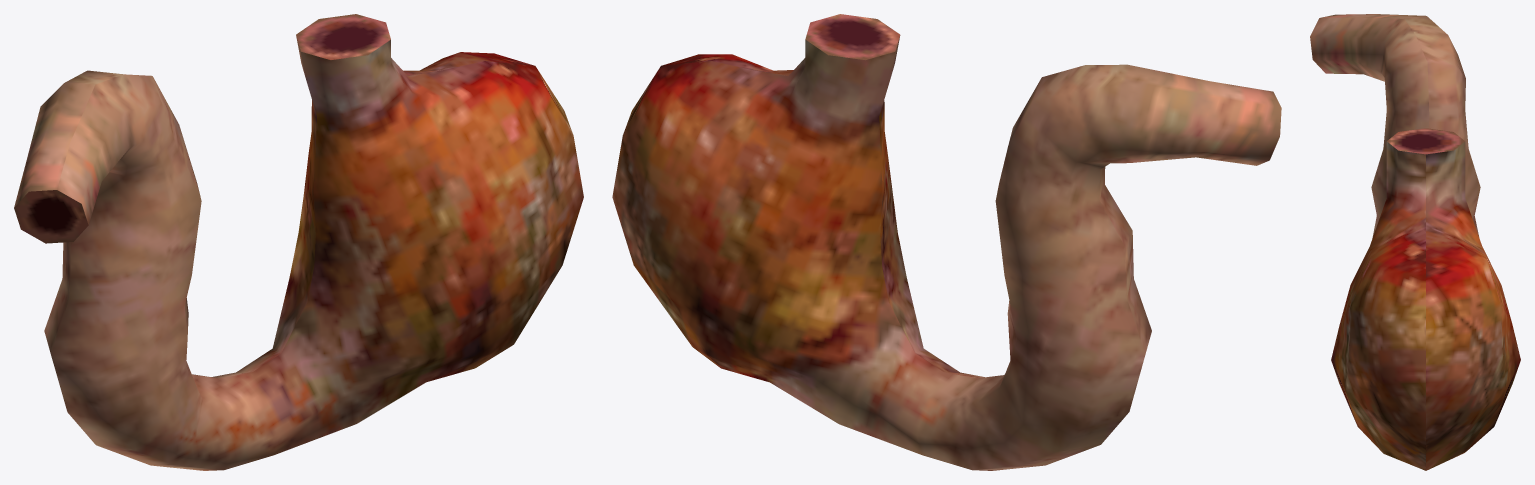
Rendered from eqp_organ_stomach_s02_l0.fbx.
3 views of the same model, side by side, from view 1: azimuth 30°, elevation 25°; view 2: azimuth 150°, elevation 25°; view 3: azimuth 270°, elevation 25° (orthographic). The views are drawn at different scales.
Parts seen in each view (by area): view 1: mesh_node; view 2: mesh_node; view 3: mesh_node.
Part boxes in pixels (<box>): mesh_node: <box>14,14,583,470</box>; mesh_node: <box>612,14,1281,470</box>; mesh_node: <box>1310,14,1520,470</box>.
Bounding box in the file's own units: 0.0734 × 0.049 × 0.0277.
